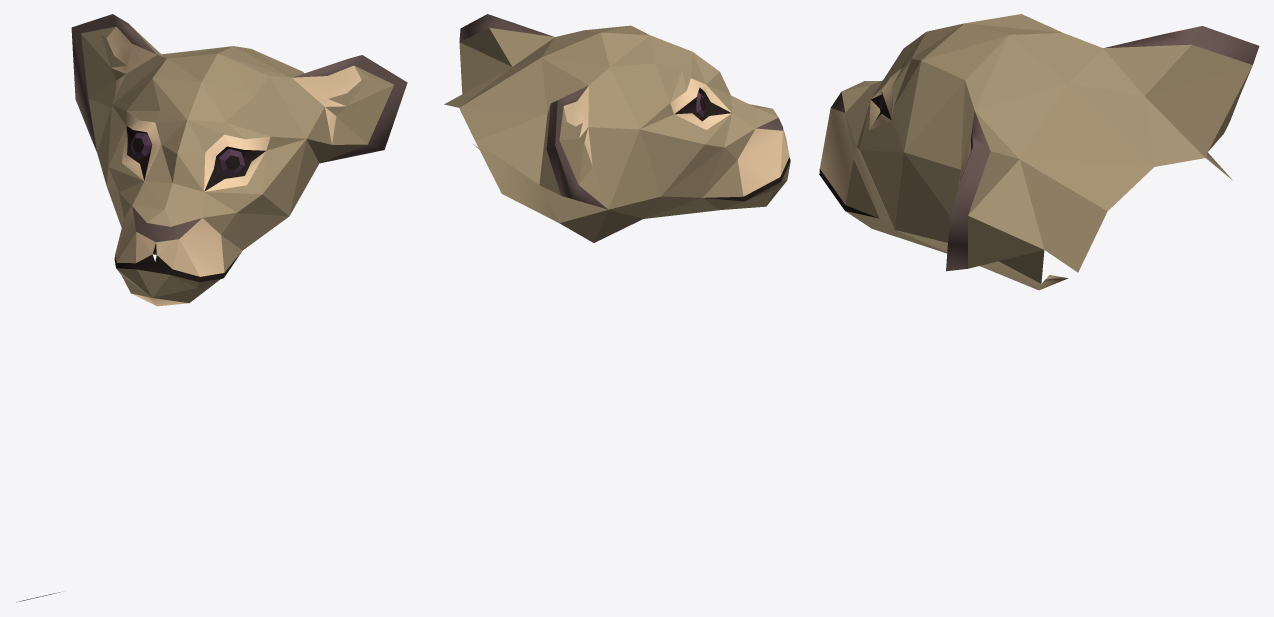
Rendered from head.gltf.
3 renders of one model, left to right at view 1: azimuth 30°, elevation 25°; view 2: azimuth 150°, elevation 25°; view 3: azimuth 270°, elevation 25°, orthographic. The views are drawn at different scales.
Visible parts, largest first — view 1: lioncub2; view 2: lioncub2; view 3: lioncub2.
Part boxes in pixels (box(x1,y1,x2,y2)): lioncub2: box(16, 14, 407, 602); lioncub2: box(444, 14, 790, 242); lioncub2: box(819, 14, 1259, 290).
Size of the model in its own units: 0.2228 by 0.3233 by 0.1901.
